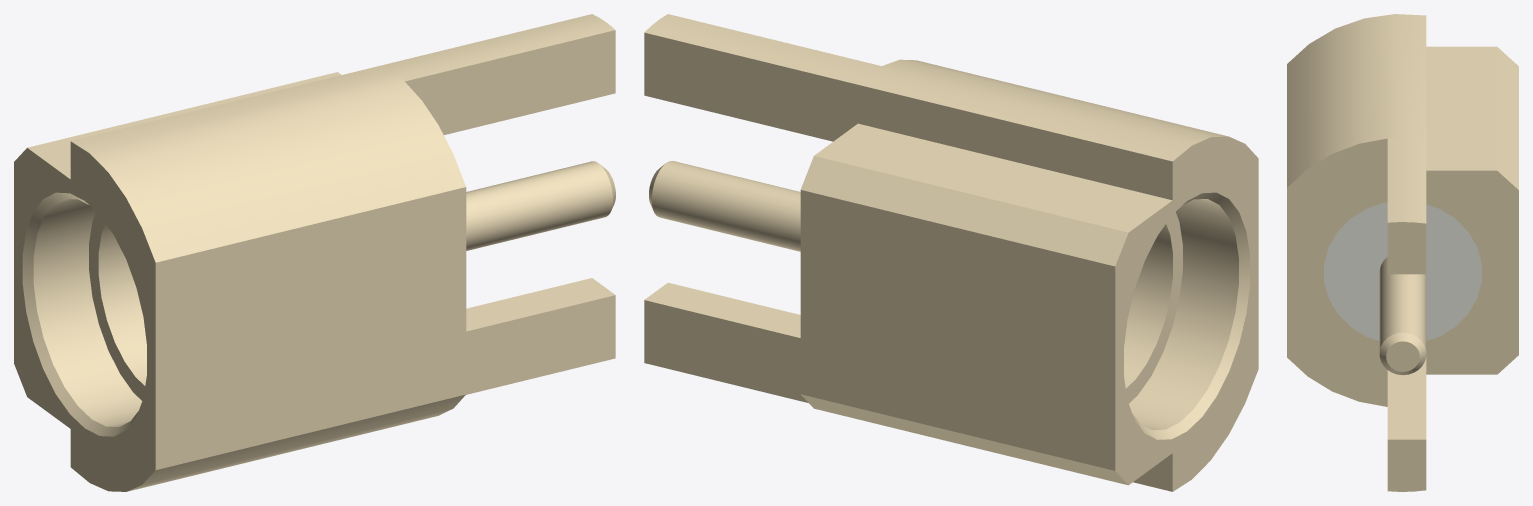
The model's file is MMCX_Molex_73415-0961_Horizontal.glb.
The picture shows the model from 3 angles, left to right: view 1: azimuth 30°, elevation 25°; view 2: azimuth 150°, elevation 25°; view 3: azimuth 270°, elevation 25°; orthographic projection. The views are drawn at different scales.
Visible parts, largest first — view 1: Shape_IndexedFaceSet.003, Shape_IndexedFaceSet.004, Shape_IndexedFaceSet.018, Shape_IndexedFaceSet.027, Shape_IndexedFaceSet.006, Shape_IndexedFaceSet.007, Shape_IndexedFaceSet.002, Shape_IndexedFaceSet.005, Shape_IndexedFaceSet.020, Shape_IndexedFaceSet.029, Shape_IndexedFaceSet.026, Shape_IndexedFaceSet.009 (+2 smaller); view 2: Shape_IndexedFaceSet.016, Shape_IndexedFaceSet.018, Shape_IndexedFaceSet.012, Shape_IndexedFaceSet.010, Shape_IndexedFaceSet.027, Shape_IndexedFaceSet.019, Shape_IndexedFaceSet.004, Shape_IndexedFaceSet.014, Shape_IndexedFaceSet.011, Shape_IndexedFaceSet.002, Shape_IndexedFaceSet.020, Shape_IndexedFaceSet.029 (+5 smaller); view 3: Shape_IndexedFaceSet.001, Shape_IndexedFaceSet.004, Shape_IndexedFaceSet, Shape_IndexedFaceSet.012, Shape_IndexedFaceSet.020, Shape_IndexedFaceSet.002, Shape_IndexedFaceSet.009, Shape_IndexedFaceSet.014, Shape_IndexedFaceSet.023, Shape_IndexedFaceSet.024, Shape_IndexedFaceSet.025, Shape_IndexedFaceSet.017.
Part boxes in pixels (x1=…): Shape_IndexedFaceSet.003: x1=155, y1=187, x2=466, y2=469; Shape_IndexedFaceSet.004: x1=71, y1=65, x2=465, y2=262; Shape_IndexedFaceSet.018: x1=14, y1=141, x2=155, y2=491; Shape_IndexedFaceSet.027: x1=33, y1=199, x2=142, y2=426; Shape_IndexedFaceSet.006: x1=405, y1=30, x2=615, y2=134; Shape_IndexedFaceSet.007: x1=466, y1=295, x2=615, y2=394; Shape_IndexedFaceSet.002: x1=466, y1=161, x2=612, y2=250; Shape_IndexedFaceSet.005: x1=127, y1=394, x2=465, y2=491; Shape_IndexedFaceSet.020: x1=381, y1=14, x2=614, y2=81; Shape_IndexedFaceSet.029: x1=98, y1=223, x2=146, y2=385; Shape_IndexedFaceSet.026: x1=22, y1=192, x2=138, y2=436; Shape_IndexedFaceSet.009: x1=466, y1=278, x2=615, y2=331; Shape_IndexedFaceSet.016: x1=800, y1=190, x2=1115, y2=470; Shape_IndexedFaceSet.018: x1=1115, y1=136, x2=1258, y2=491; Shape_IndexedFaceSet.012: x1=814, y1=123, x2=1172, y2=232; Shape_IndexedFaceSet.010: x1=644, y1=32, x2=857, y2=141; Shape_IndexedFaceSet.027: x1=1129, y1=199, x2=1238, y2=430; Shape_IndexedFaceSet.019: x1=858, y1=85, x2=1172, y2=200; Shape_IndexedFaceSet.004: x1=858, y1=59, x2=1228, y2=161; Shape_IndexedFaceSet.014: x1=800, y1=156, x2=1128, y2=266; Shape_IndexedFaceSet.011: x1=644, y1=300, x2=808, y2=402; Shape_IndexedFaceSet.002: x1=652, y1=161, x2=800, y2=251; Shape_IndexedFaceSet.020: x1=644, y1=14, x2=881, y2=84; Shape_IndexedFaceSet.029: x1=1124, y1=224, x2=1172, y2=388; Shape_IndexedFaceSet.001: x1=1287, y1=138, x2=1518, y2=406; Shape_IndexedFaceSet.004: x1=1287, y1=14, x2=1426, y2=187; Shape_IndexedFaceSet: x1=1324, y1=202, x2=1481, y2=340; Shape_IndexedFaceSet.012: x1=1426, y1=46, x2=1497, y2=170; Shape_IndexedFaceSet.020: x1=1387, y1=137, x2=1426, y2=223; Shape_IndexedFaceSet.002: x1=1379, y1=257, x2=1426, y2=350; Shape_IndexedFaceSet.009: x1=1387, y1=357, x2=1426, y2=439; Shape_IndexedFaceSet.014: x1=1497, y1=47, x2=1518, y2=189; Shape_IndexedFaceSet.023: x1=1387, y1=222, x2=1426, y2=274; Shape_IndexedFaceSet.024: x1=1387, y1=439, x2=1426, y2=491; Shape_IndexedFaceSet.025: x1=1386, y1=341, x2=1419, y2=371; Shape_IndexedFaceSet.017: x1=1379, y1=332, x2=1426, y2=375.
Size of the model in its own units: 2.93 by 1.77 by 1.38.
